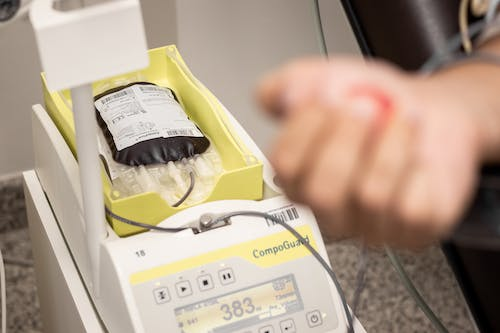blood: (93, 79, 212, 168)
